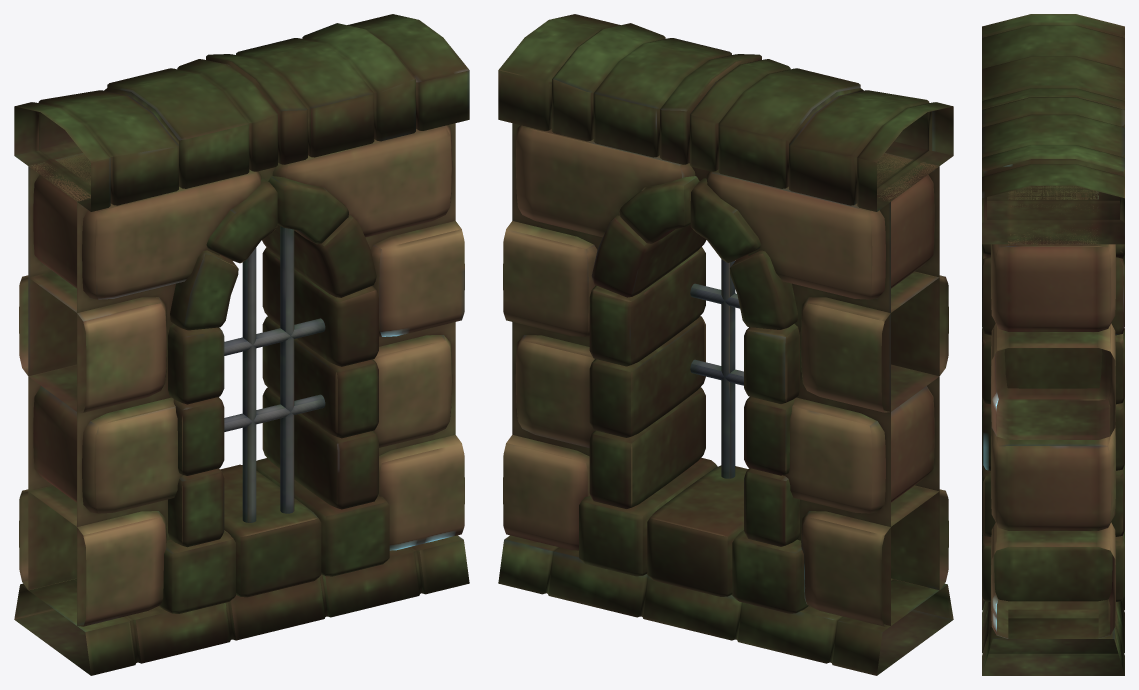
File: ParedVentana.fbx
3 renders of one model, left to right at view 1: azimuth 30°, elevation 25°; view 2: azimuth 150°, elevation 25°; view 3: azimuth 270°, elevation 25°, orthographic. The views are drawn at different scales.
Visible parts, largest first — view 1: Window_Wall.007; view 2: Window_Wall.007; view 3: Window_Wall.007.
Part boxes in pixels (bbox=[...]): Window_Wall.007: bbox=[14, 14, 469, 675]; Window_Wall.007: bbox=[498, 14, 953, 675]; Window_Wall.007: bbox=[982, 14, 1124, 675].
Size of the model in its own units: 4 by 5.36 by 1.41.
